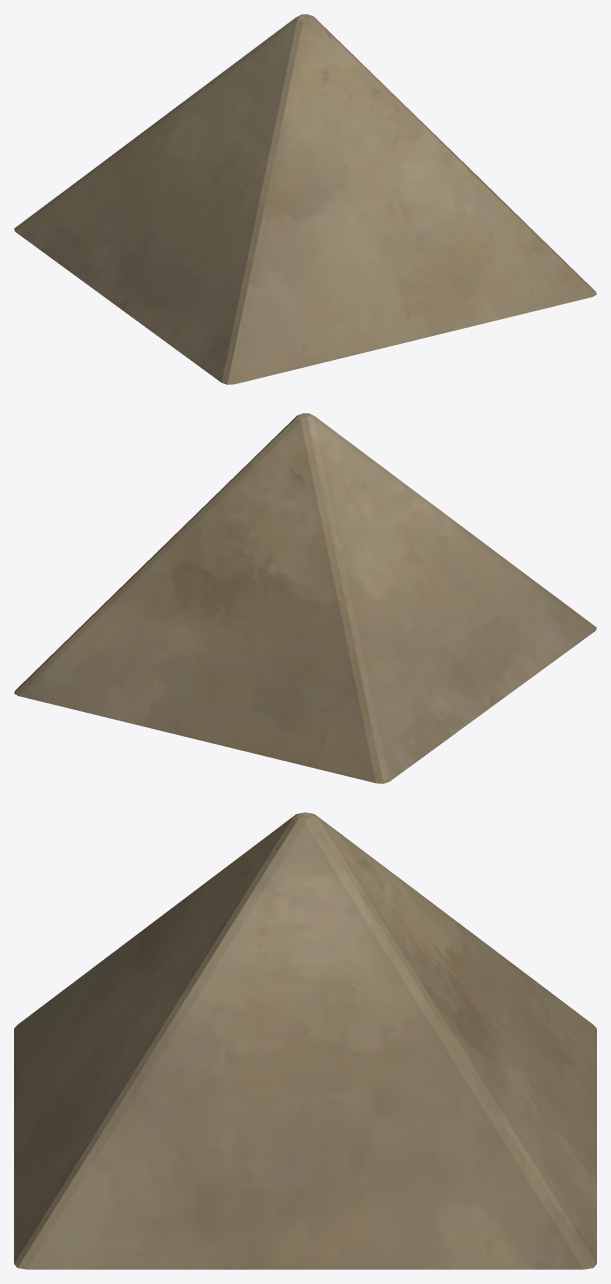
3 renders of one model, top to bottom at view 1: azimuth 30°, elevation 25°; view 2: azimuth 150°, elevation 25°; view 3: azimuth 270°, elevation 25°, orthographic. The views are drawn at different scales.
Parts seen in each view (by area): view 1: body0_model0_lod0_mesh0; view 2: body0_model0_lod0_mesh0; view 3: body0_model0_lod0_mesh0.
Boxes of the visible parts, <box> form: body0_model0_lod0_mesh0: <box>14,14,596,384</box>; body0_model0_lod0_mesh0: <box>14,413,596,783</box>; body0_model0_lod0_mesh0: <box>14,812,596,1269</box>.
Bounding box in the file's own units: 300 × 188 × 300.
Materials: 1 (1 with a texture image).
